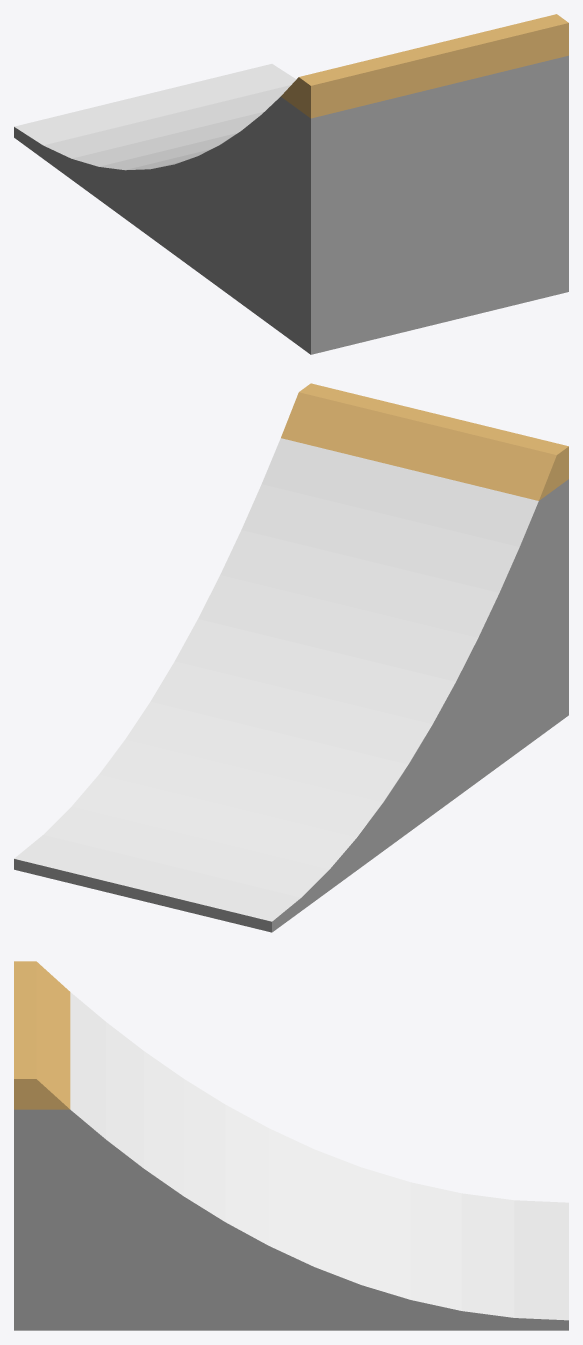
Rendered from StepUpLow_10x20x10.fbx.
The picture shows the model from 3 angles, top to bottom: view 1: azimuth 30°, elevation 25°; view 2: azimuth 150°, elevation 25°; view 3: azimuth 270°, elevation 25°; orthographic projection. The views are drawn at different scales.
Visible parts, largest first — view 1: StepUpLow_10x20x10; view 2: StepUpLow_10x20x10; view 3: StepUpLow_10x20x10.
Part boxes in pixels (left/top/right/bottom): StepUpLow_10x20x10: left=14, top=14, right=568, bottom=354; StepUpLow_10x20x10: left=14, top=383, right=568, bottom=932; StepUpLow_10x20x10: left=14, top=961, right=568, bottom=1330.
Bounding box in the file's own units: 10.05 × 10.01 × 20.02.
